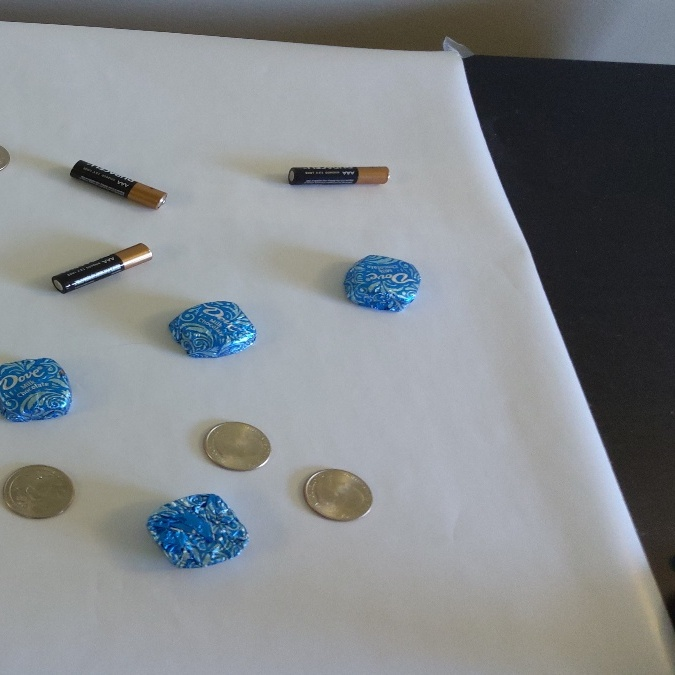chocolate_blue: (138, 480, 262, 579), (165, 298, 262, 363), (340, 251, 427, 319)
coin_quarter: (295, 457, 378, 526), (195, 412, 279, 475)
